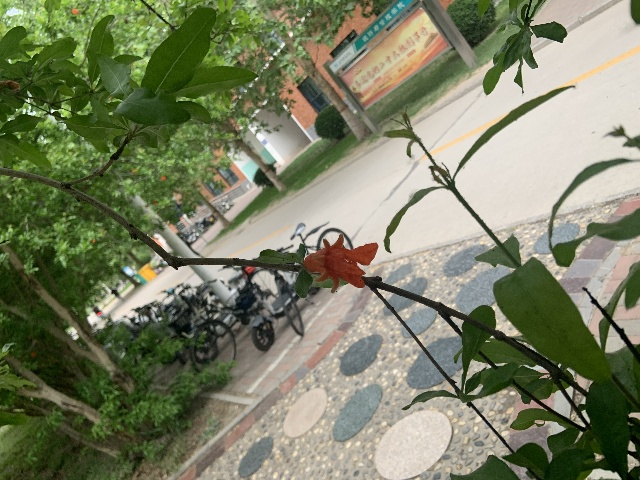bud: (0, 80, 19, 91)
flower: (303, 233, 378, 292)
